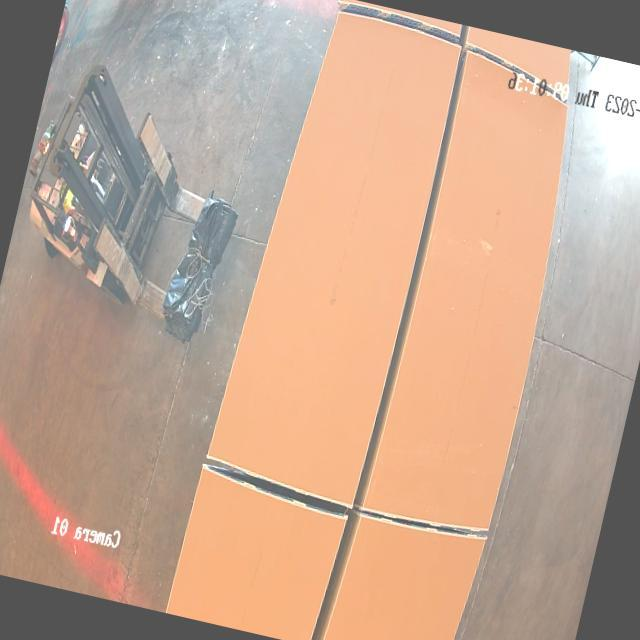forklift: (0, 46, 195, 316)
